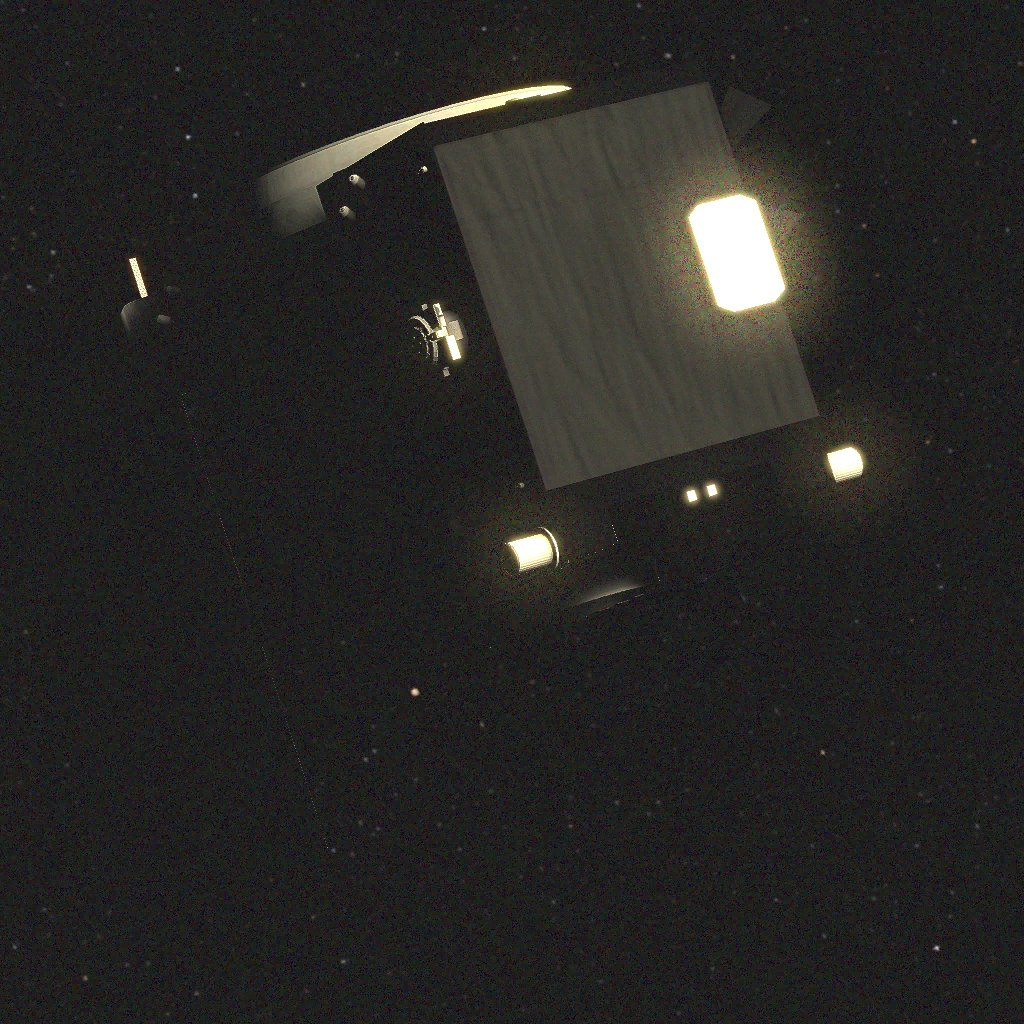proba_3_csc: (0, 57, 863, 930)
